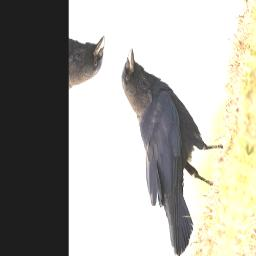Crow: (88, 43, 237, 256)
